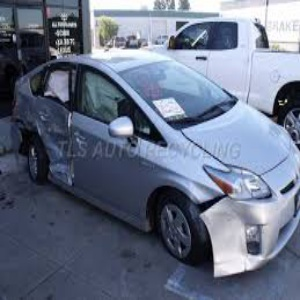bumper: (202, 202, 249, 279)
